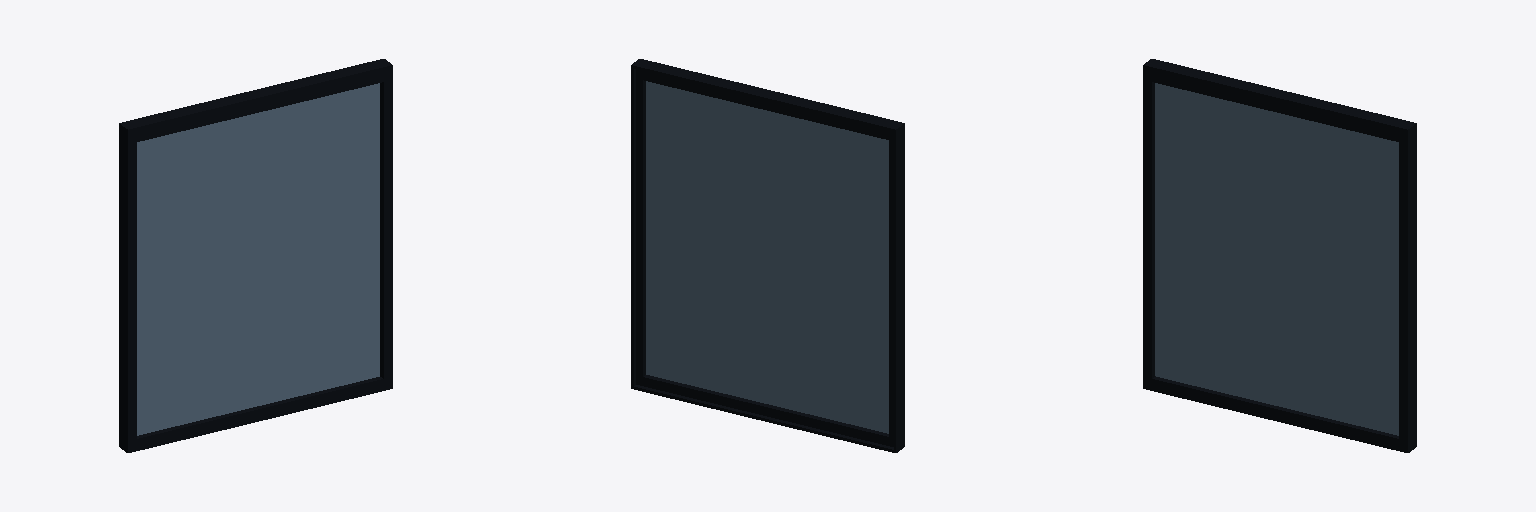
File: chuangh1.obj
The picture shows the model from 3 angles: view 1: azimuth 30°, elevation 25°; view 2: azimuth 150°, elevation 25°; view 3: azimuth 330°, elevation 25°; orthographic projection.
Parts seen in each view (by area): view 1: Rectangle076, Rectangle075, Rectangle077; view 2: Rectangle076, Rectangle075, Rectangle077; view 3: Rectangle076, Rectangle075, Rectangle077.
Boxes of the visible parts, x1,y1,x2,y2 form: Rectangle076: [137, 83, 379, 435]; Rectangle075: [130, 69, 389, 449]; Rectangle077: [119, 59, 392, 452]; Rectangle076: [646, 81, 888, 433]; Rectangle075: [636, 69, 893, 446]; Rectangle077: [631, 59, 904, 452]; Rectangle076: [1155, 83, 1398, 435]; Rectangle075: [1146, 69, 1405, 449]; Rectangle077: [1143, 59, 1416, 452].
Bounding box in the file's own units: 12 × 14 × 0.7.